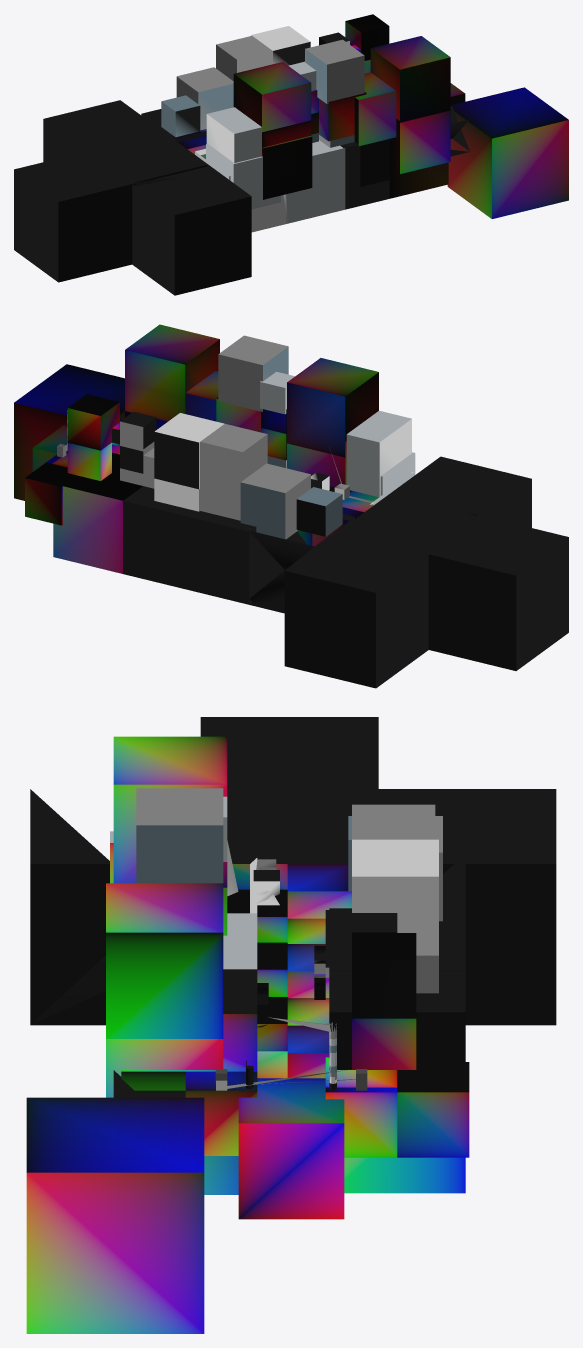
3 views of the same model, one above another, from view 1: azimuth 30°, elevation 25°; view 2: azimuth 150°, elevation 25°; view 3: azimuth 270°, elevation 25° (orthographic). The views are drawn at different scales.
Parts seen in each view (by area): view 1: node_MeshObject-1803805056-PolyPaper18; view 2: node_MeshObject-1803805056-PolyPaper18; view 3: node_MeshObject-1803805056-PolyPaper18.
Part boxes in pixels (left/top/right/bottom): node_MeshObject-1803805056-PolyPaper18: left=14, top=14, right=568, bottom=295; node_MeshObject-1803805056-PolyPaper18: left=14, top=324, right=568, bottom=688; node_MeshObject-1803805056-PolyPaper18: left=26, top=717, right=556, bottom=1333.
Bounding box in the file's own units: 2.85 × 0.98 × 1.4.
